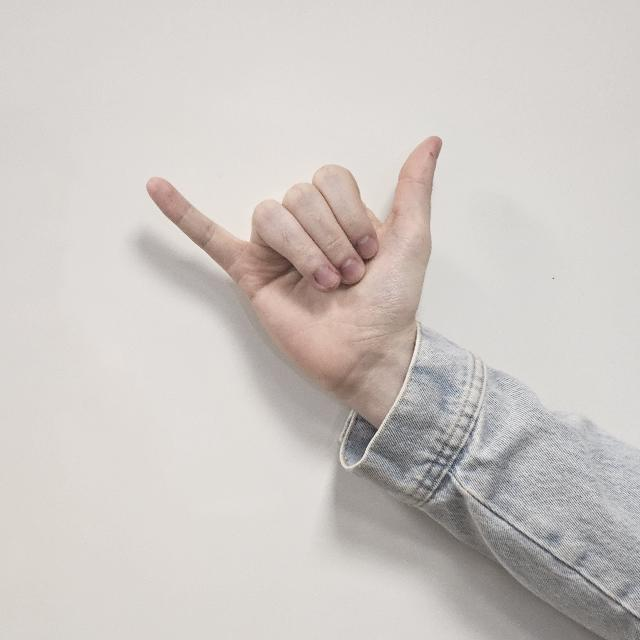Direita: (143, 125, 459, 483)
